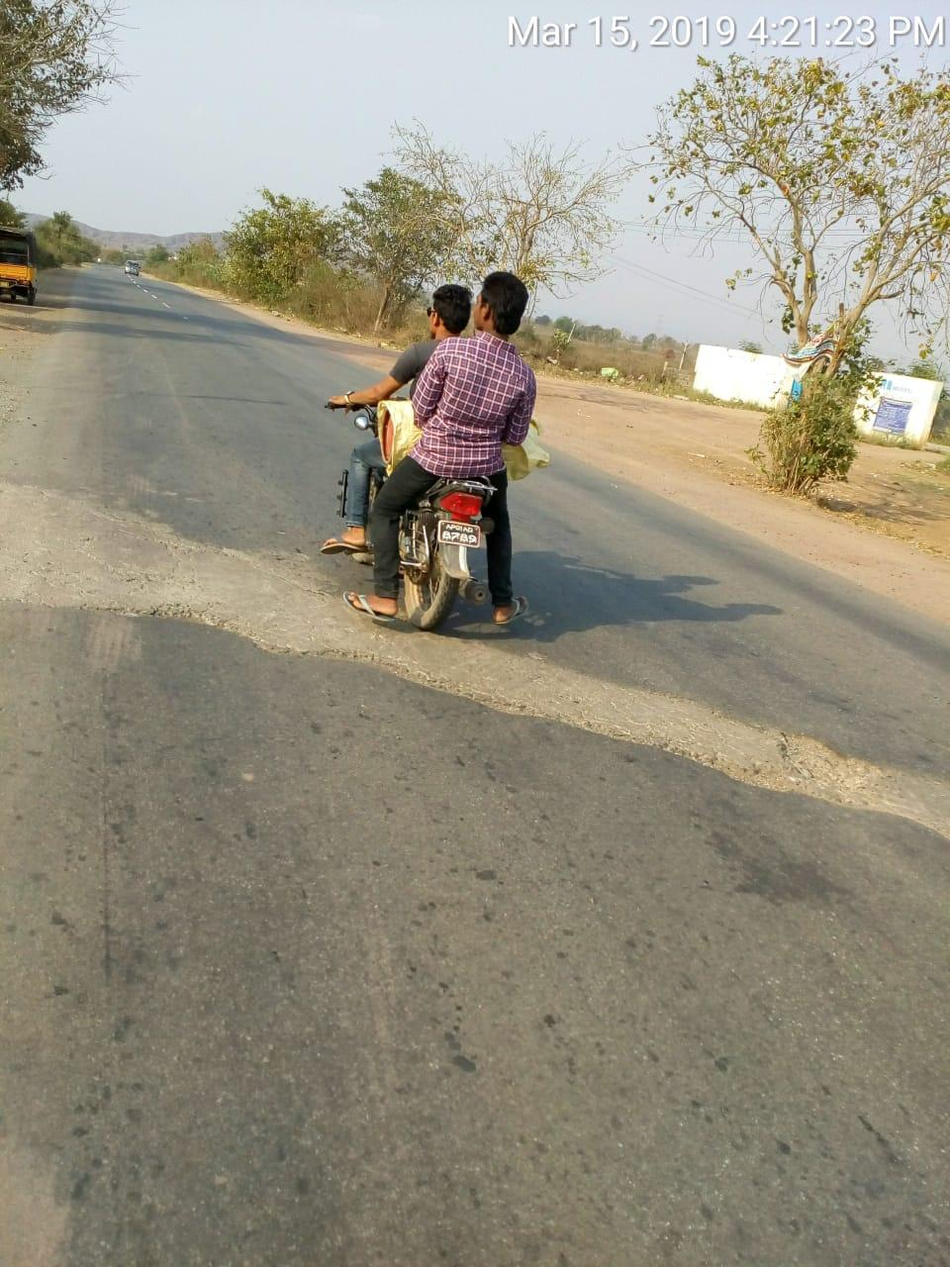plate: (434, 519, 486, 551)
